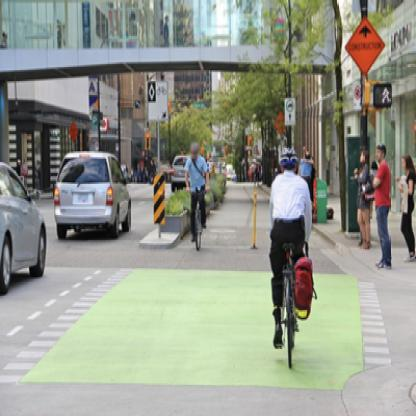Helmet: (274, 144, 300, 173), (186, 139, 204, 160)
